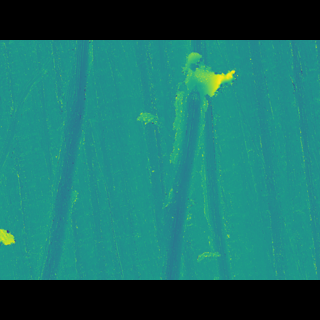Loch: (23, 68, 91, 250), (158, 109, 235, 250), (0, 82, 54, 179), (165, 76, 243, 114)
